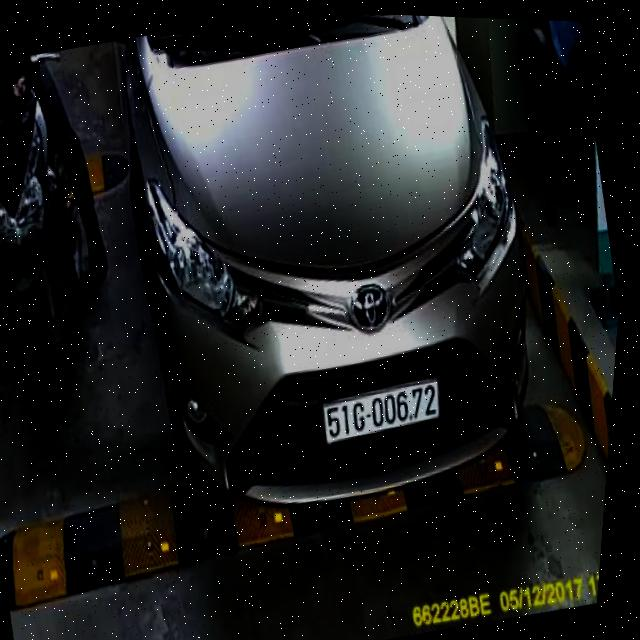car: (73, 4, 598, 549)
motorcycle: (0, 46, 157, 458)
plate: (314, 374, 453, 447)
